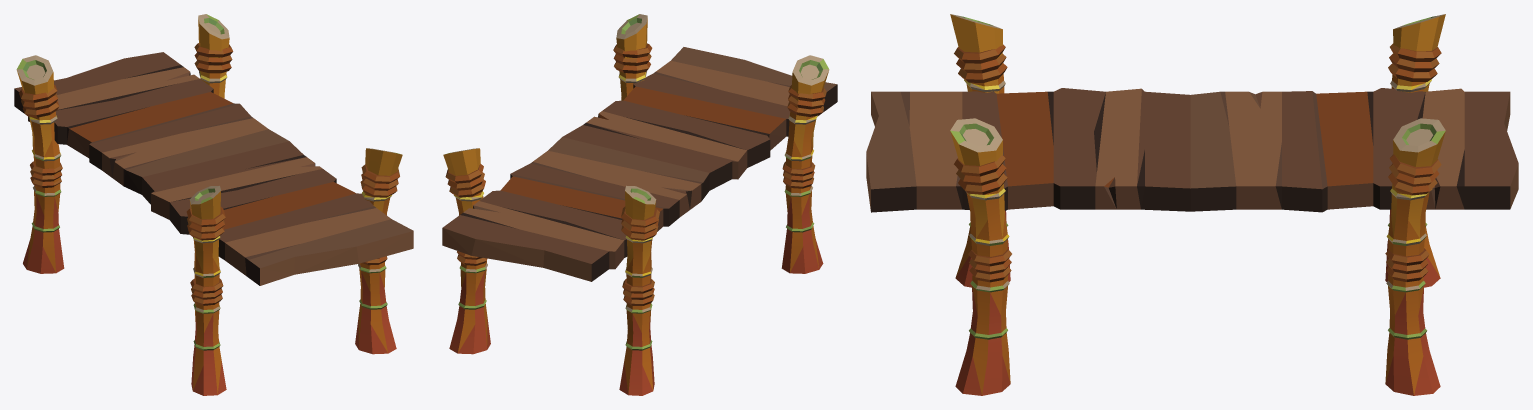
The model's file is itch_fishing_village_platform.glb.
3 views of the same model, side by side, from view 1: azimuth 30°, elevation 25°; view 2: azimuth 150°, elevation 25°; view 3: azimuth 270°, elevation 25° (orthographic). The views are drawn at different scales.
Visible parts, largest first — view 1: platform.001; view 2: platform.001; view 3: platform.001.
Part boxes in pixels (x1=…): platform.001: x1=14, y1=14, x2=413, y2=395; platform.001: x1=442, y1=14, x2=837, y2=395; platform.001: x1=866, y1=14, x2=1518, y2=395.
Size of the model in its own units: 0.5717 by 0.5271 by 1.18.
